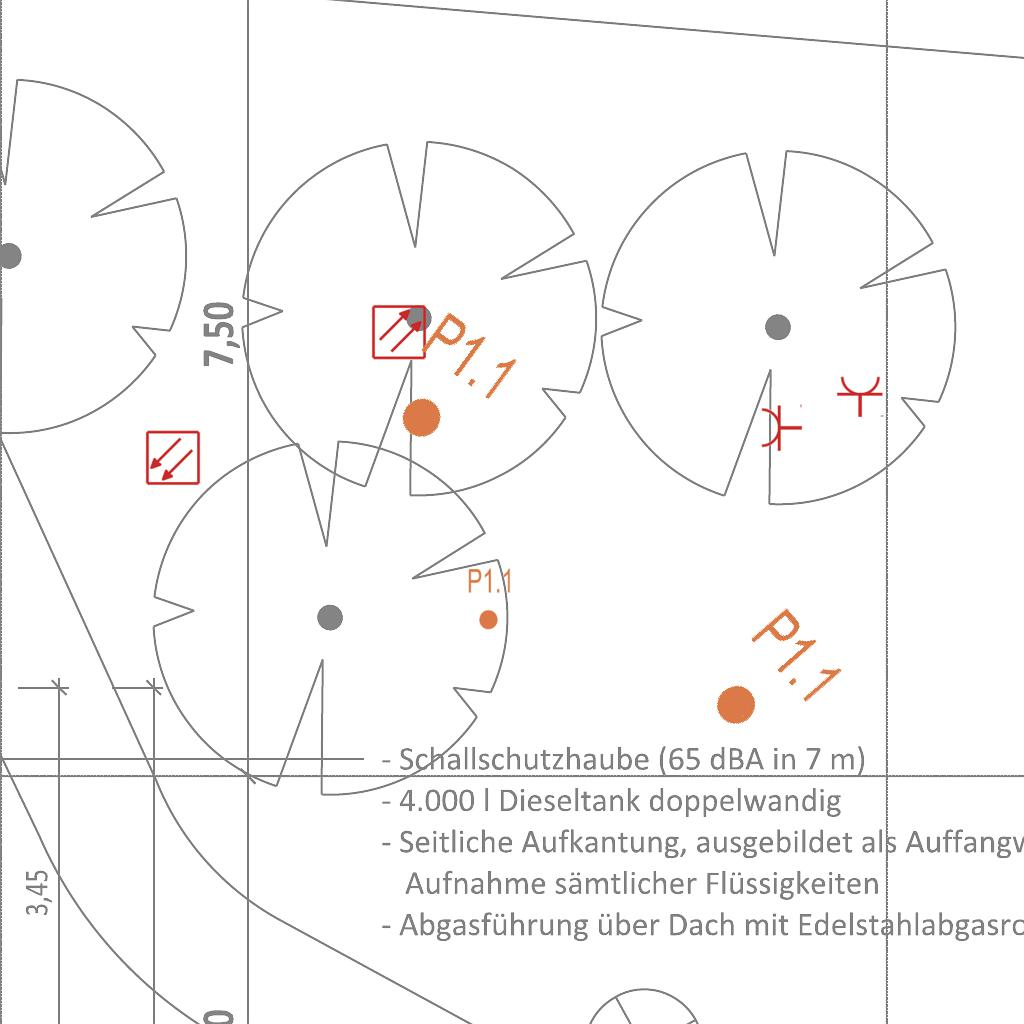Downlight_LED_Einbauleuchten_Flur: (690, 602, 849, 758), (373, 306, 524, 466), (467, 567, 513, 631)
RMO_Rauchmelder_optischer: (145, 430, 201, 486), (371, 304, 427, 360)
Schukosteckdose_einfach: (836, 375, 886, 418), (760, 402, 803, 452)
